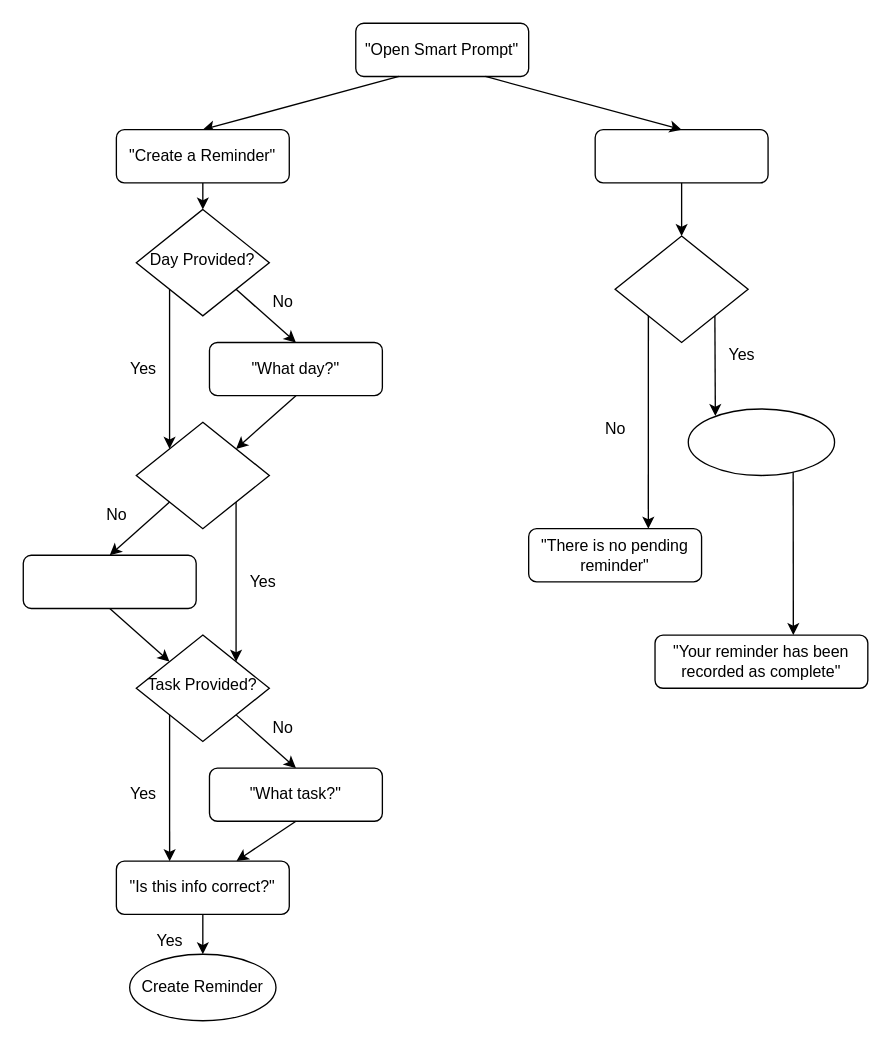
Image size: 891x1044. Some labels were removed from this diagram. The centre of each missing label's shape, as x and y in pixels:
"I completed my task": (x=681, y=155)
"What time?": (x=109, y=581)
Is there a Pending Reminder?: (x=681, y=288)
Record Reminder as Complete: (x=761, y=441)
Time Provided?: (x=202, y=475)
